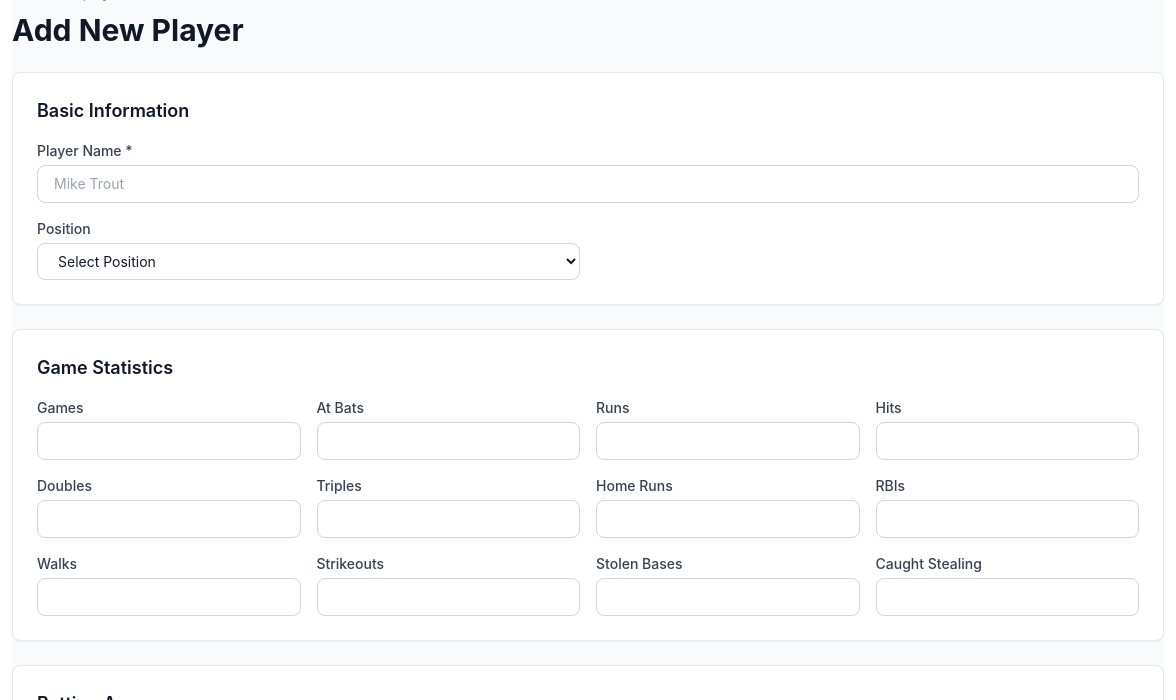
Test: PlayerFormPage › Create Mode › should show error on API failure
The image size is (1176, 700).
Type "New Player" into the field labelled "Player Name *".
click(588, 184); type("New Player")  # box [37,165,1139,203]
(page scrolled)
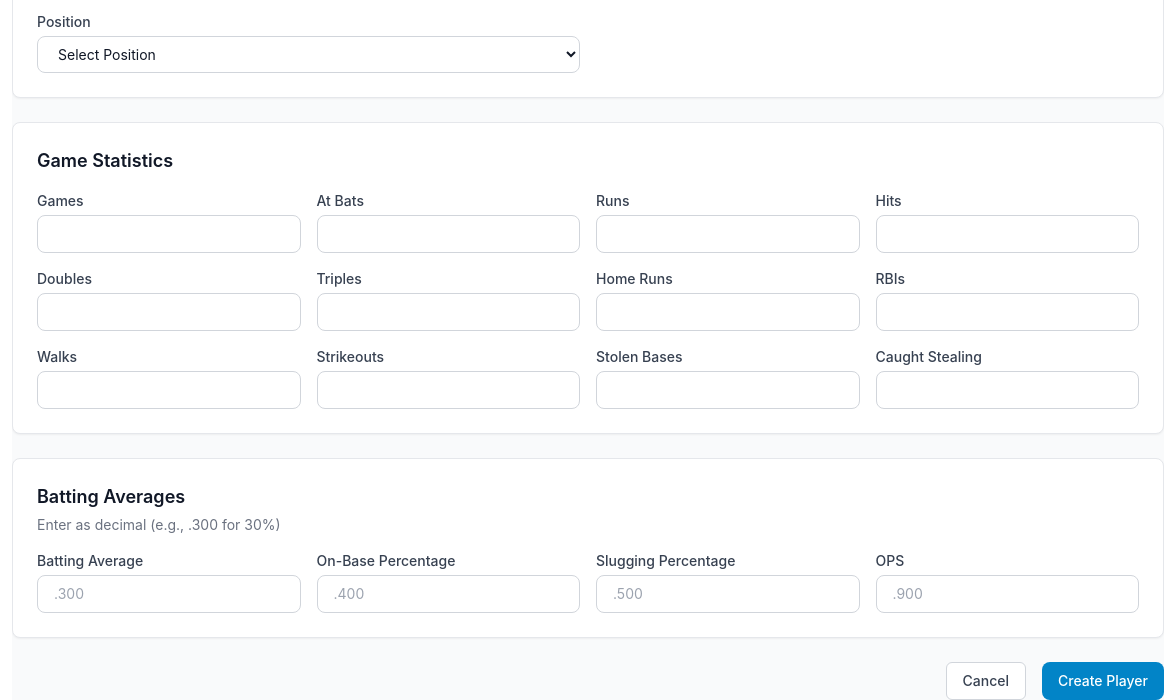
Click the button "Create Player".
click(1103, 681)  # box [1042,662,1164,699]
(page scrolled)
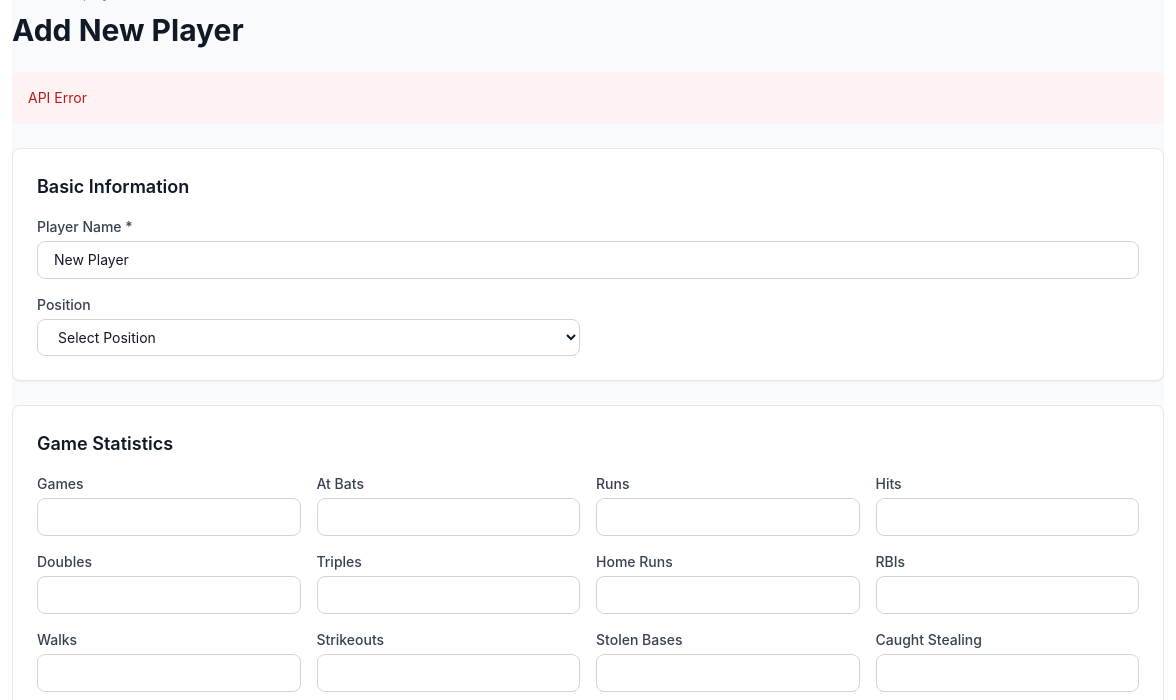
Expected: the text "API Error" is shown, [28,89,87,106]
